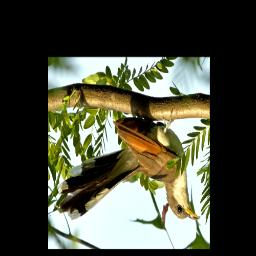Cuckoo: (57, 115, 200, 221)
